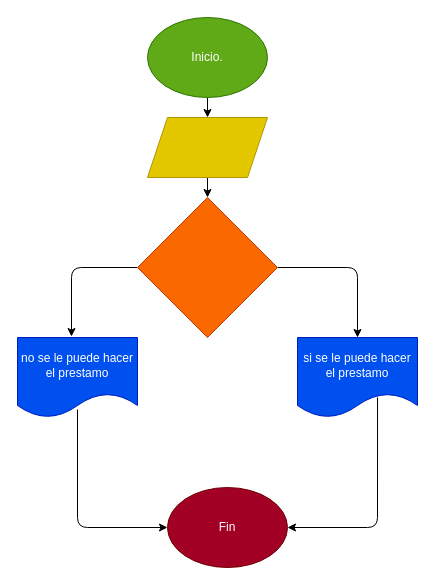
Some shapes in this 435 by 585 pixel diagram are drawn without their labels. The centre of each missing label's shape, as x and y in pixels:
"ingresos deudas" belongs at (207,147).
"ingresos>=$945200 deudas=no" belongs at (207,267).
